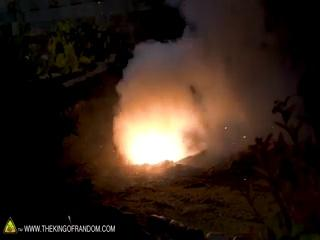Fire: (101, 106, 211, 164)
